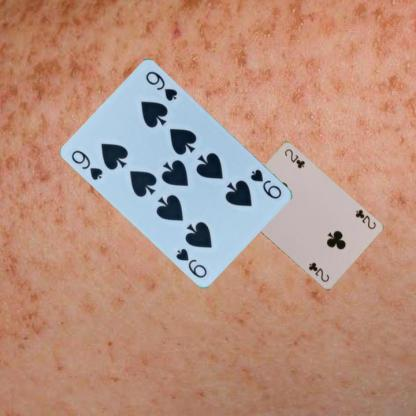2c: (352, 207, 377, 230)
9s: (69, 147, 104, 182), (248, 166, 284, 200)
